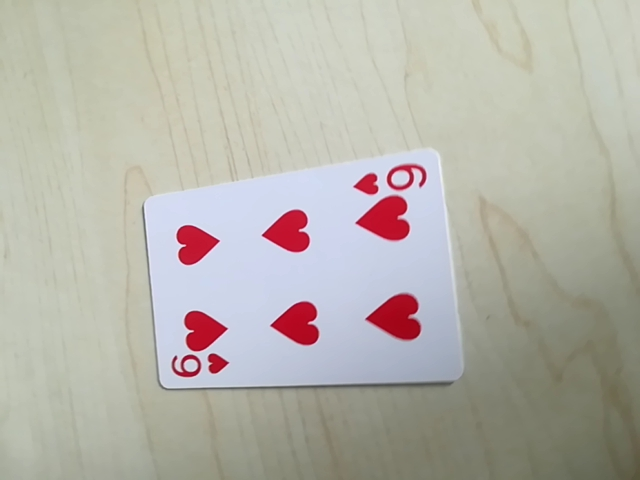hx 6: (351, 157, 431, 198), (166, 353, 231, 387)
